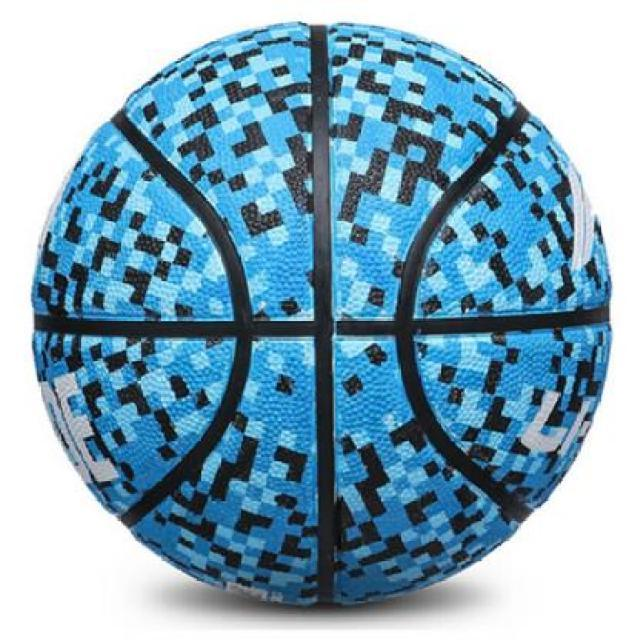basketball: (31, 20, 614, 608)
